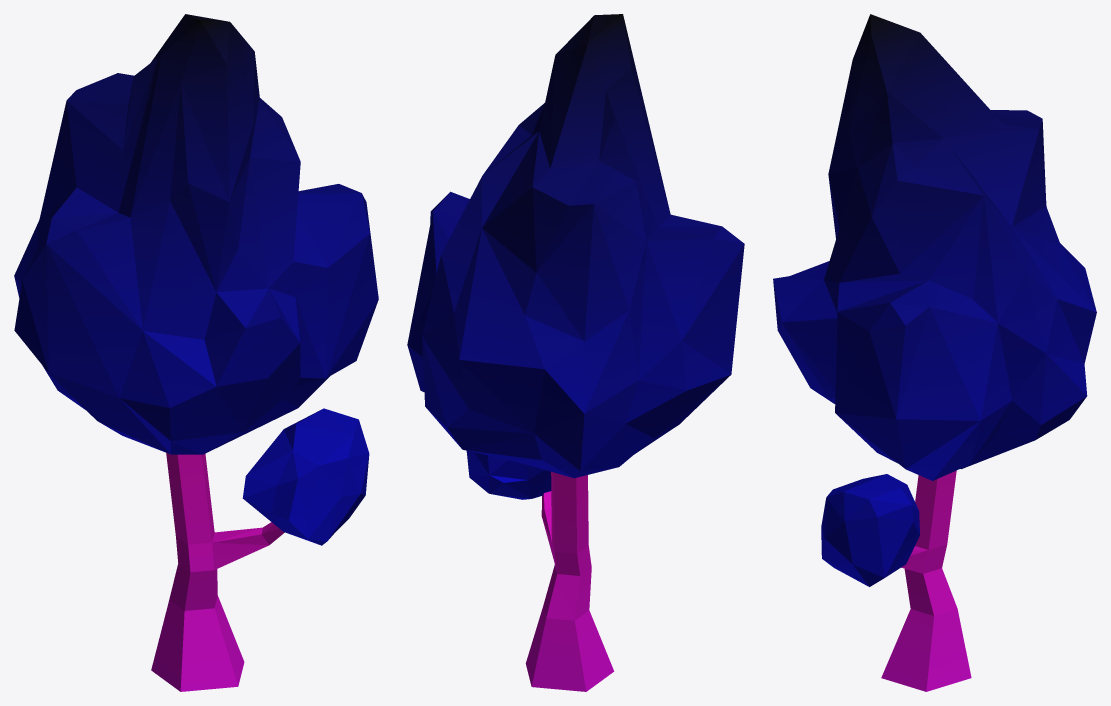
File: SM_Tree_03.gltf
The picture shows the model from 3 angles, left to right: view 1: azimuth 30°, elevation 25°; view 2: azimuth 150°, elevation 25°; view 3: azimuth 270°, elevation 25°; orthographic projection. The views are drawn at different scales.
Parts seen in each view (by area): view 1: SM_Tree_03; view 2: SM_Tree_03; view 3: SM_Tree_03.
Part boxes in pixels (left/top/right/bottom): SM_Tree_03: left=14, top=14, right=378, bottom=691; SM_Tree_03: left=407, top=14, right=744, bottom=691; SM_Tree_03: left=773, top=14, right=1096, bottom=691.
Size of the model in its own units: 3.18 by 6.21 by 2.83.
